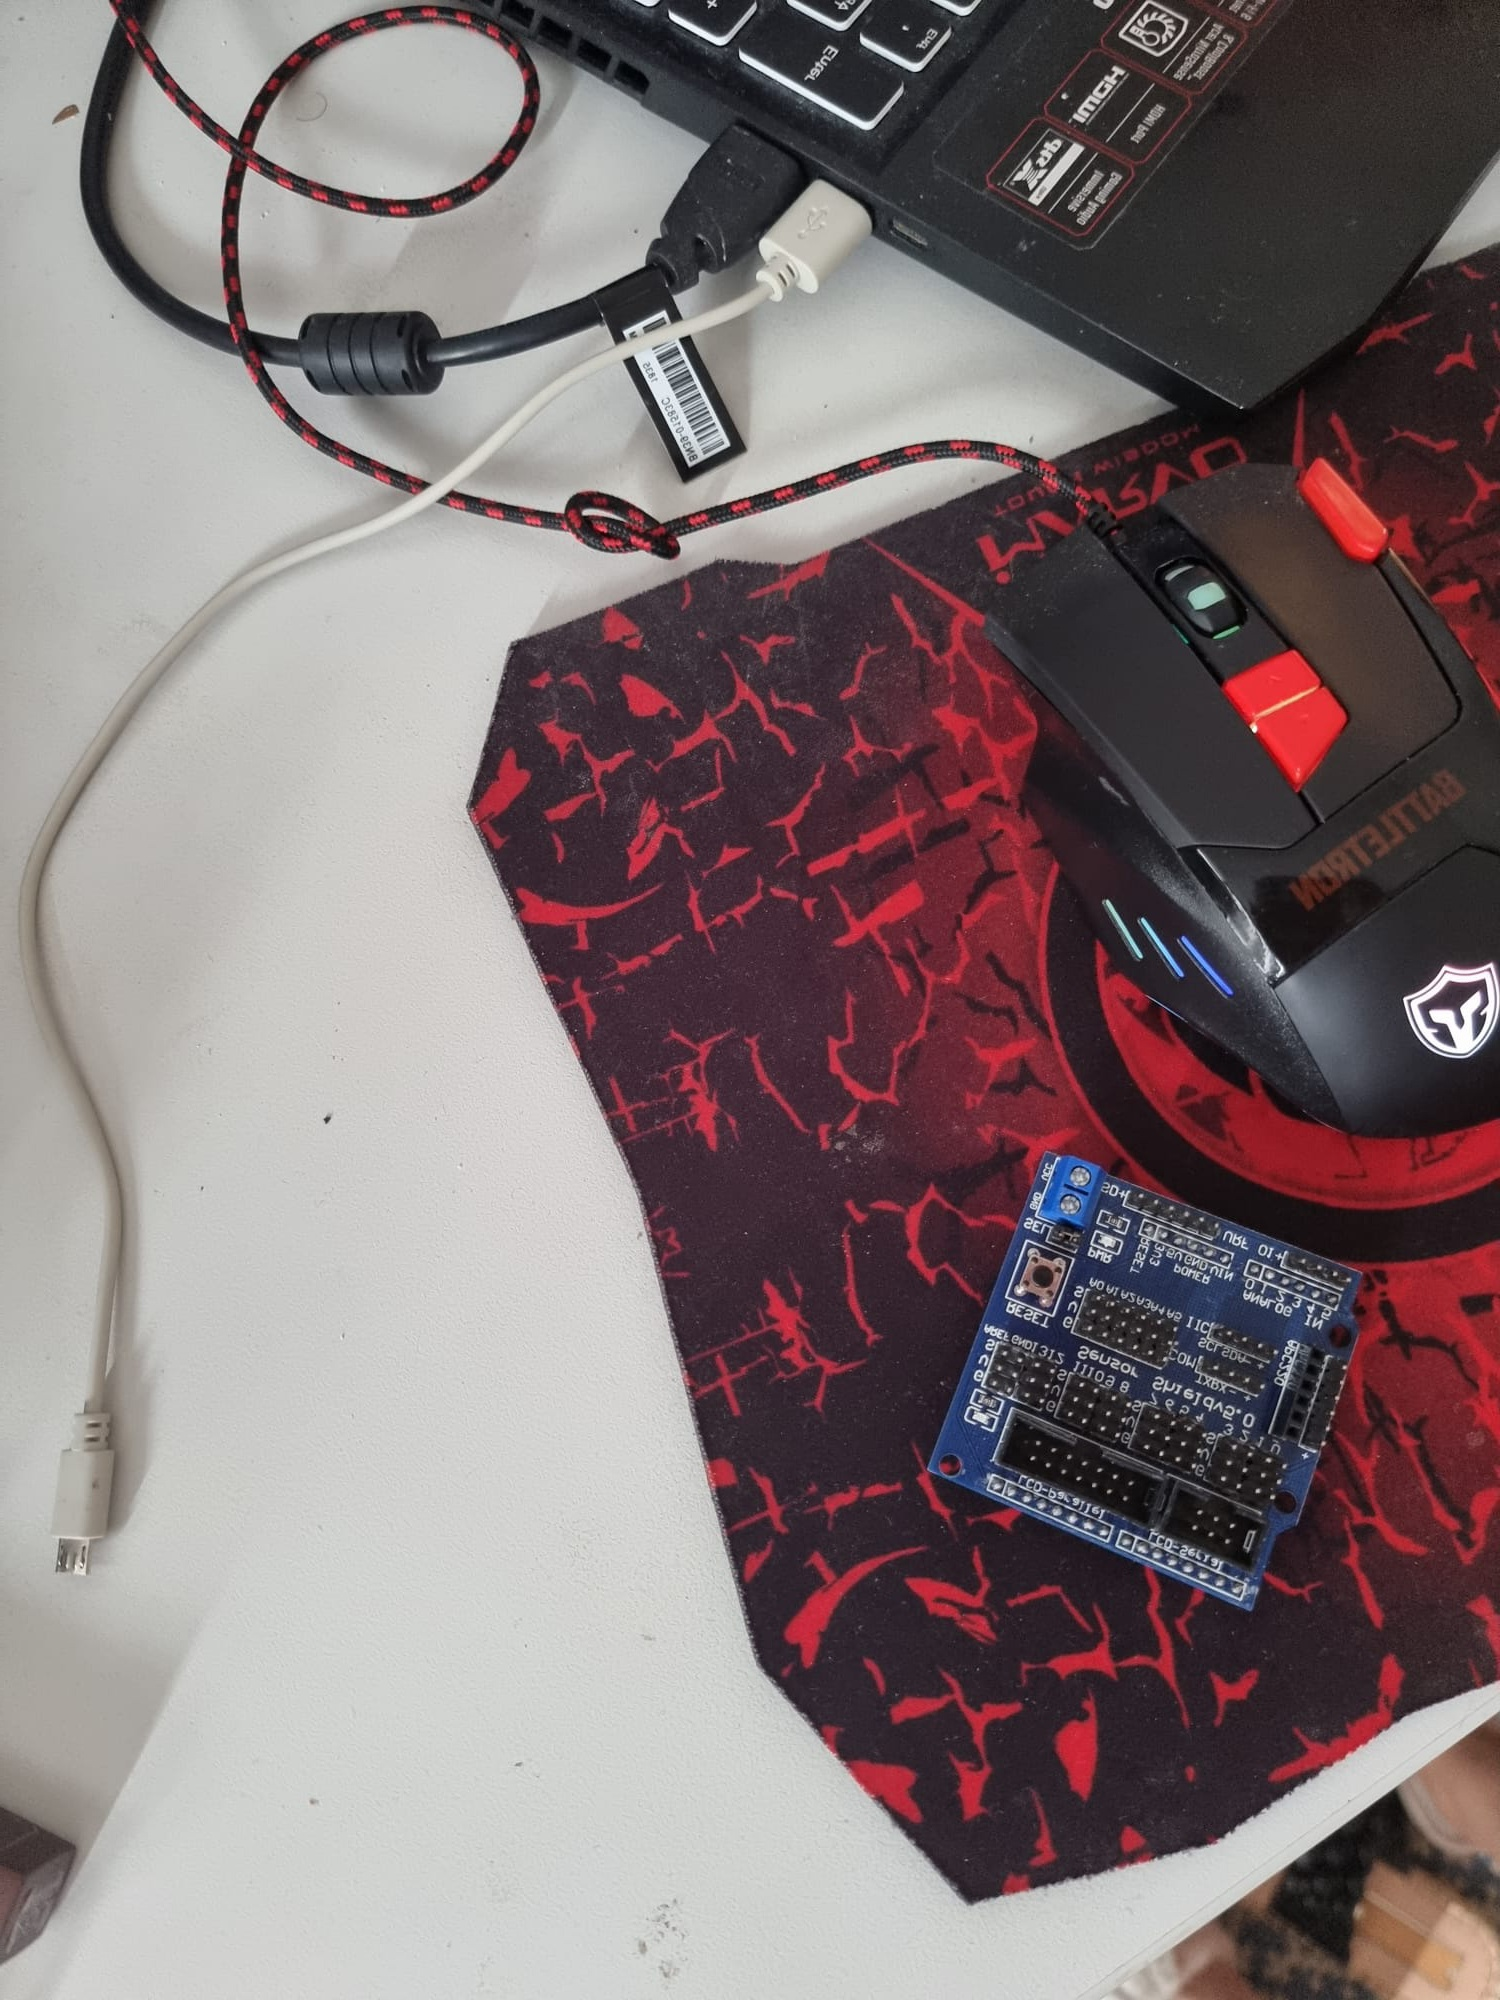5V EXPANSION: (912, 1148, 1402, 1620)
